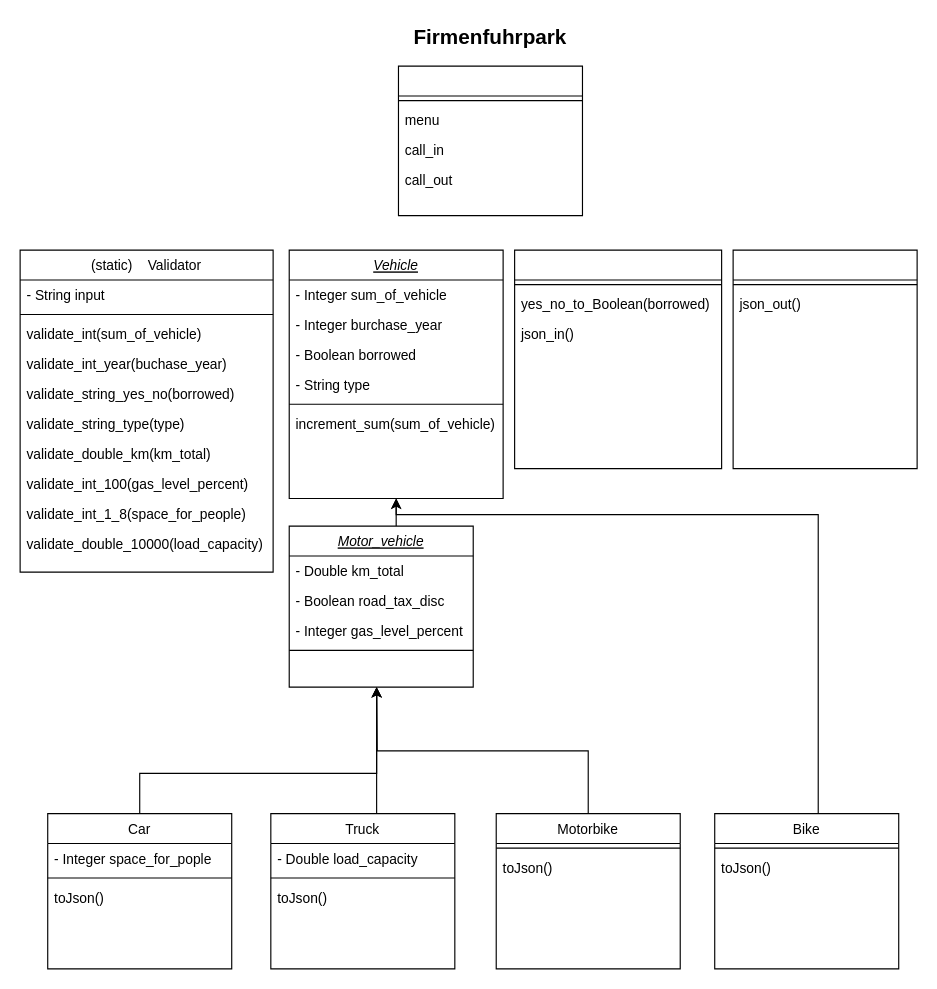
Some shapes in this 937 by 989 pixel diagram are drawn without their labels. The box of each missing label's shape, as (x1, y1, x2, y2) in pixels:
Input: (513, 249, 722, 469)
Main: (397, 65, 582, 216)
Output: (732, 249, 917, 469)
